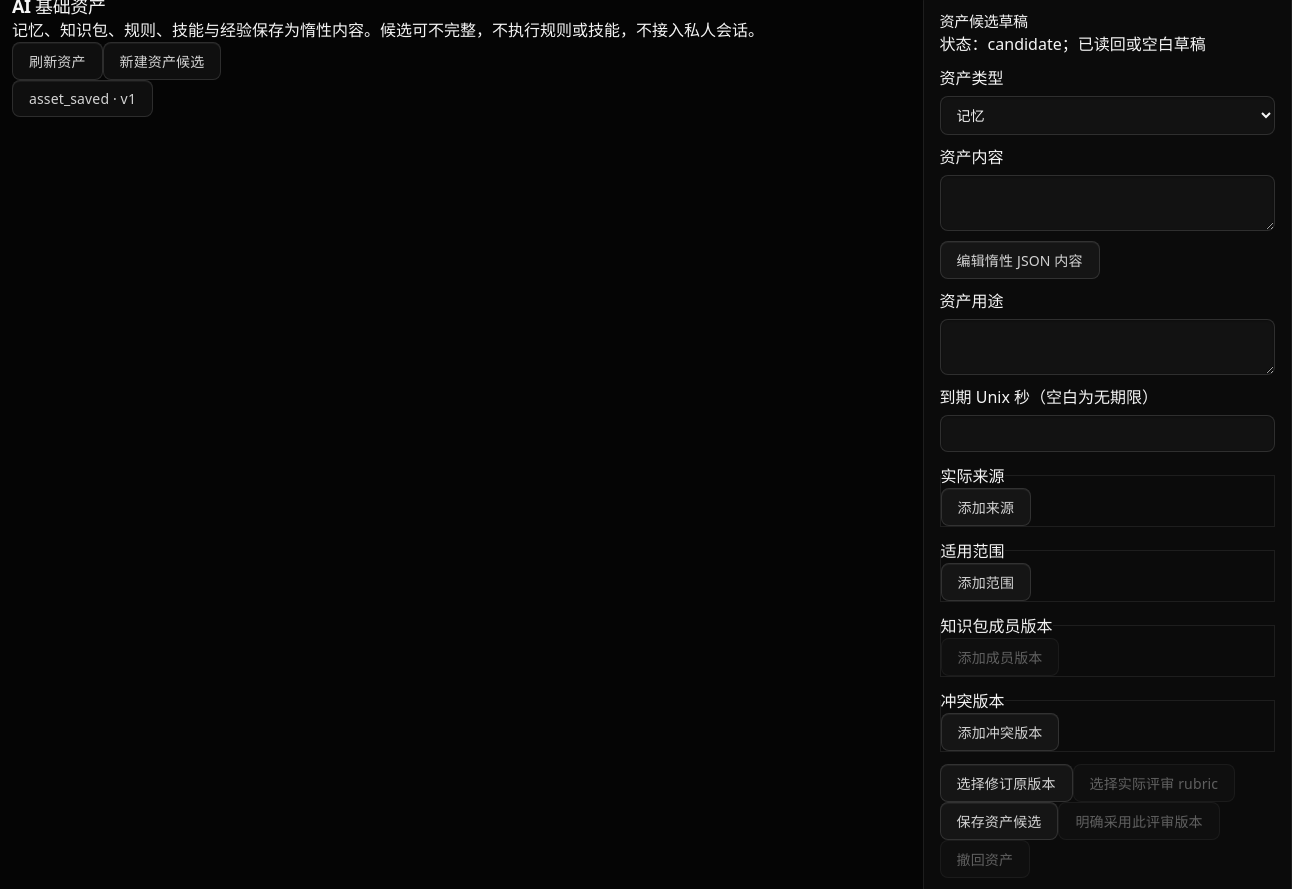
Test case: withdrawal keeps history readable and rejects new edits/adoption
The width and height of the screenshot is (1292, 889).
Click the button "asset_saved · v1" at (82, 98), box [12,80,153,116]
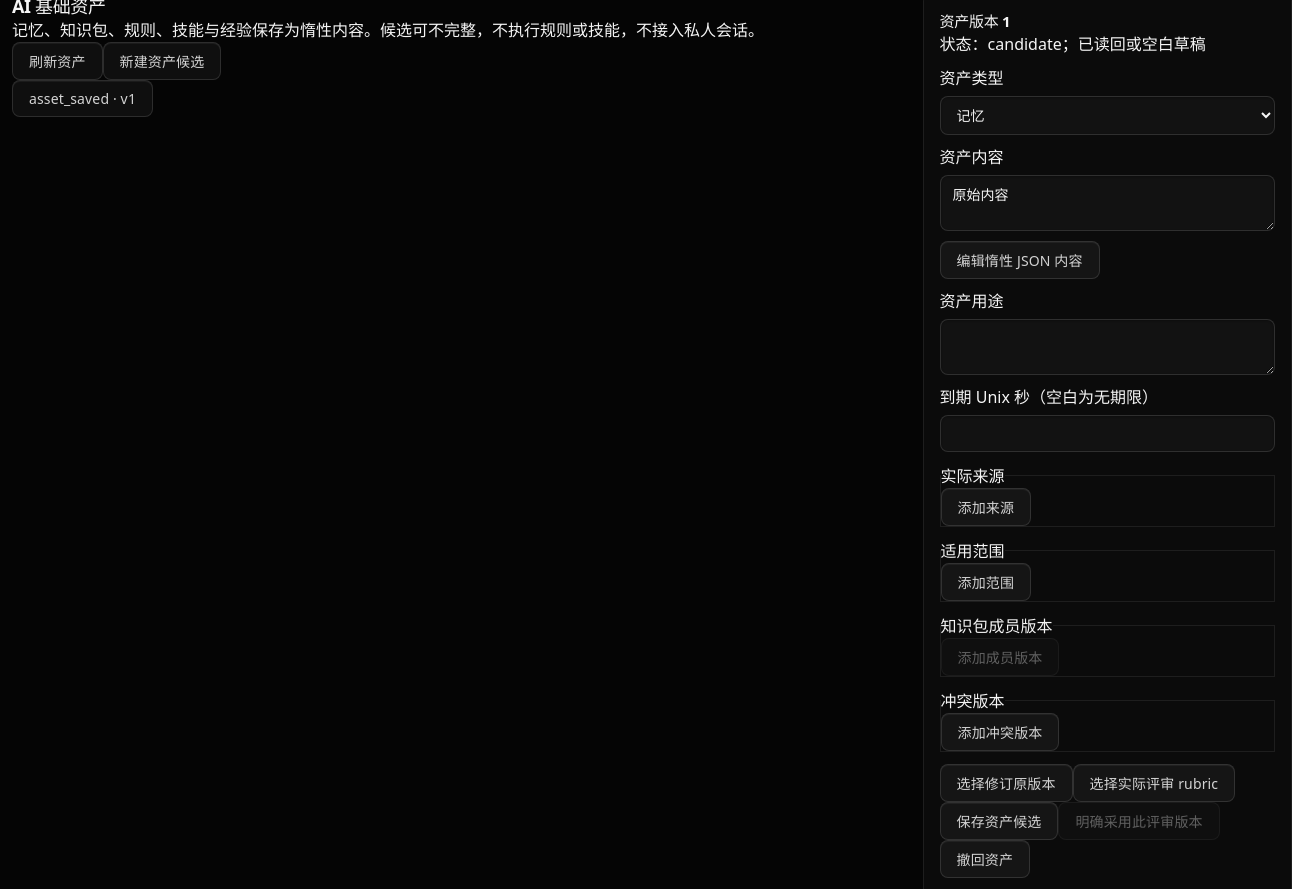
expect the text box labelled "资产内容" holds "原始内容": met, box [940,174,1275,230]
Click the button "撤回资产" at (985, 858), box [940,840,1030,878]
(page scrolled)
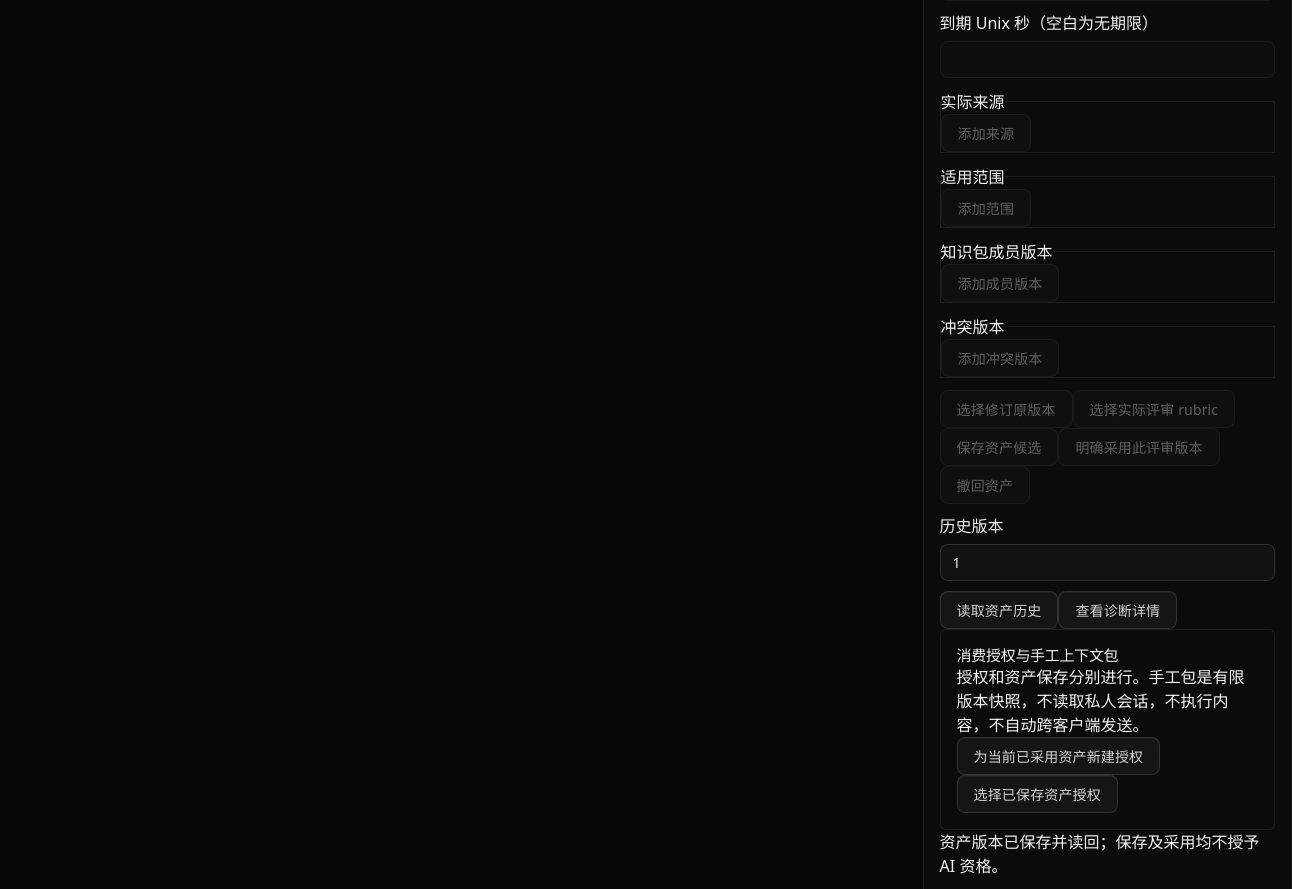
expect the button "明确采用此评审版本" is disabled: met, box [1058,428,1220,466]
expect the text "资产版本已保存并读回；保存及采用均不授予 AI 资格。" is shown: met, box [940,830,1275,878]
Click the button "读取资产历史" at (999, 610), box [940,590,1058,628]
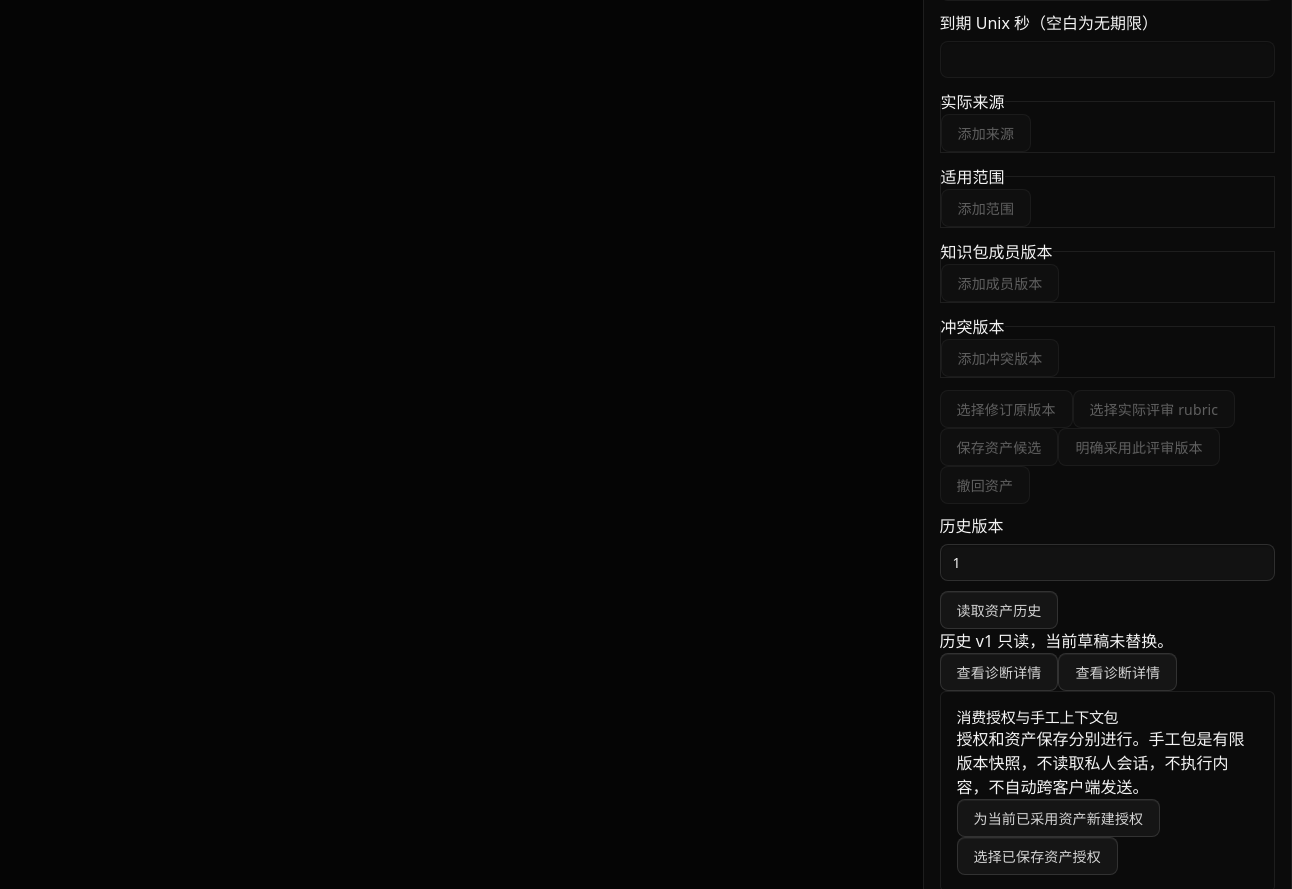
expect the text "历史 v1 只读，当前草稿未替换。" is shown: met, box [940,630,1173,652]
